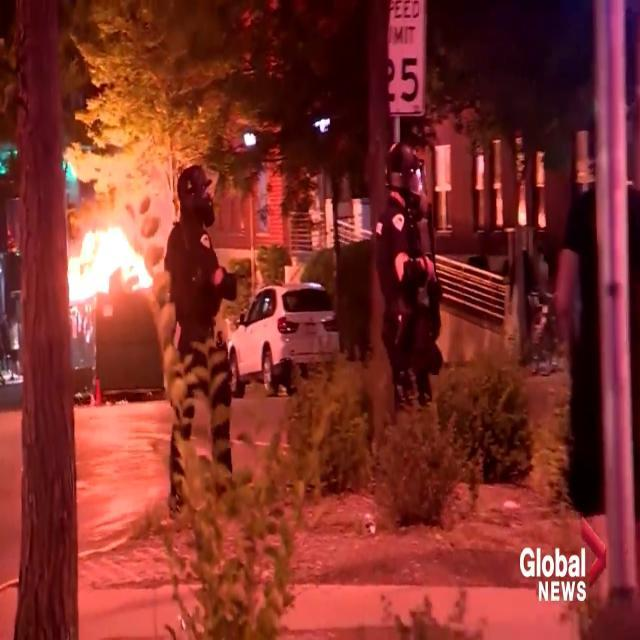Fire: (60, 196, 154, 310)
